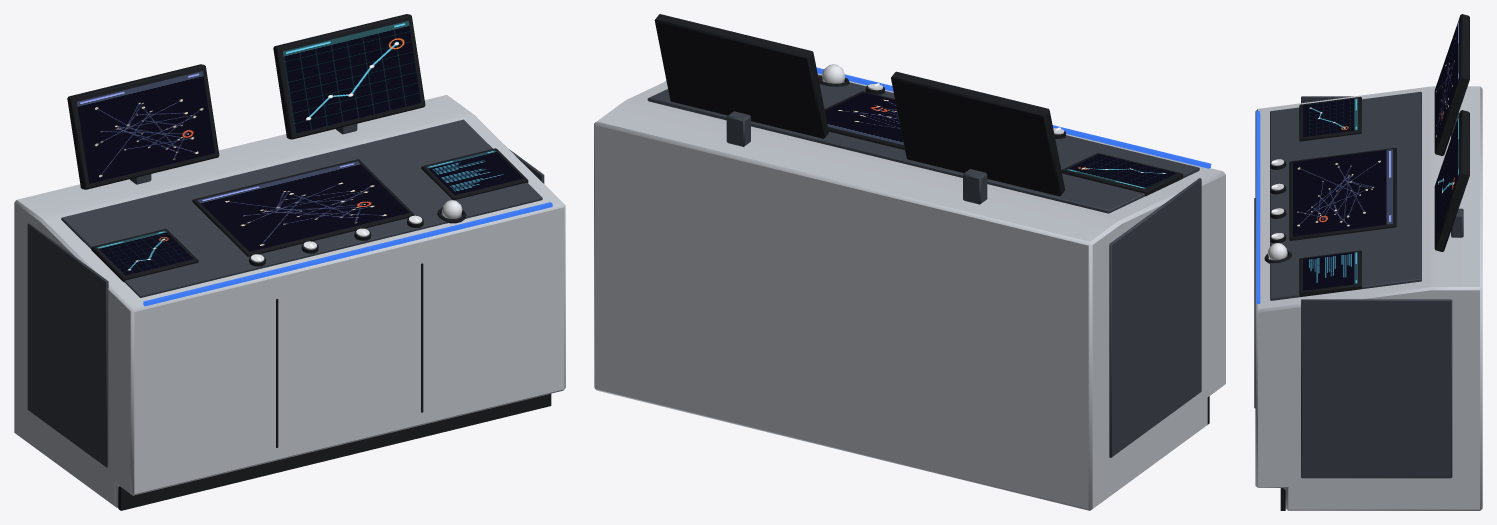
File: console_navigation.glb
3 renders of one model, left to right at view 1: azimuth 30°, elevation 25°; view 2: azimuth 150°, elevation 25°; view 3: azimuth 270°, elevation 25°, orthographic. The views are drawn at different scales.
Parts seen in each view (by area): view 1: console_navigation; view 2: console_navigation; view 3: console_navigation.
Part boxes in pixels (x1,y1,x2,y2): console_navigation: (14,14,565,510); console_navigation: (594,14,1225,510); console_navigation: (1254,14,1482,510).
Size of the model in its own units: 1.92 by 1.39 by 0.904.
9 materials, 3 textured.
